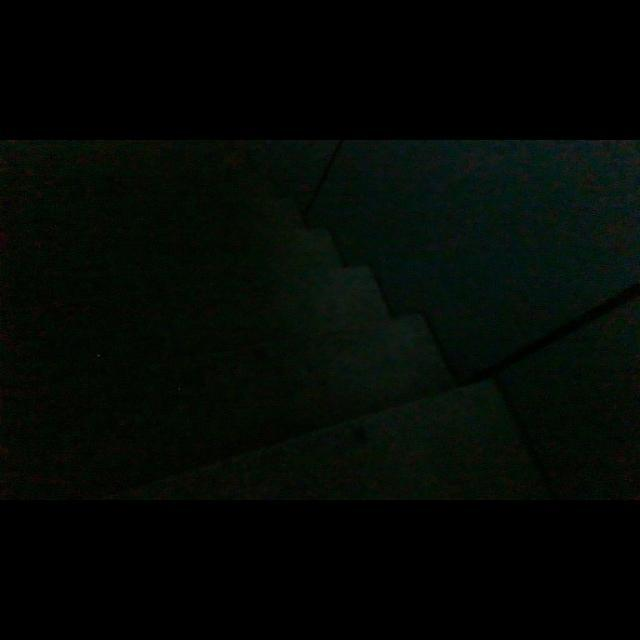stair: (0, 148, 476, 477)
